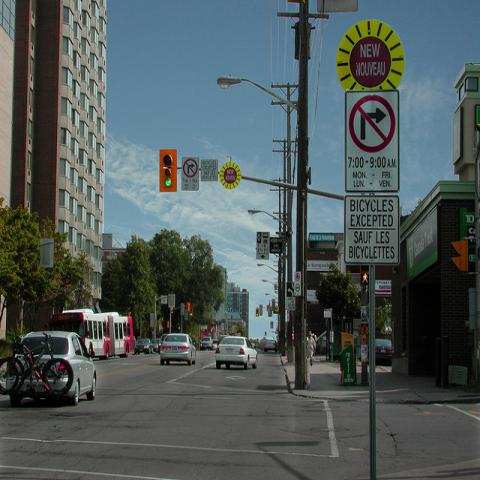bus: (45, 312, 134, 360)
car: (6, 332, 98, 407), (216, 336, 257, 370), (160, 334, 196, 363), (375, 338, 392, 363), (134, 338, 153, 355), (200, 337, 213, 351), (264, 340, 278, 352), (151, 340, 160, 351)
